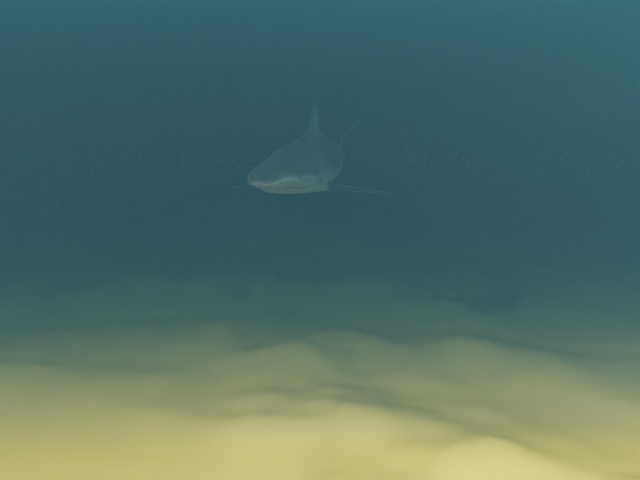Carribean Shark.001: (230, 100, 397, 195)
